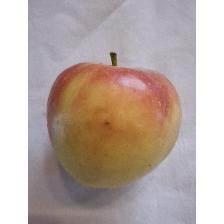Apfel: (45, 51, 182, 191)
